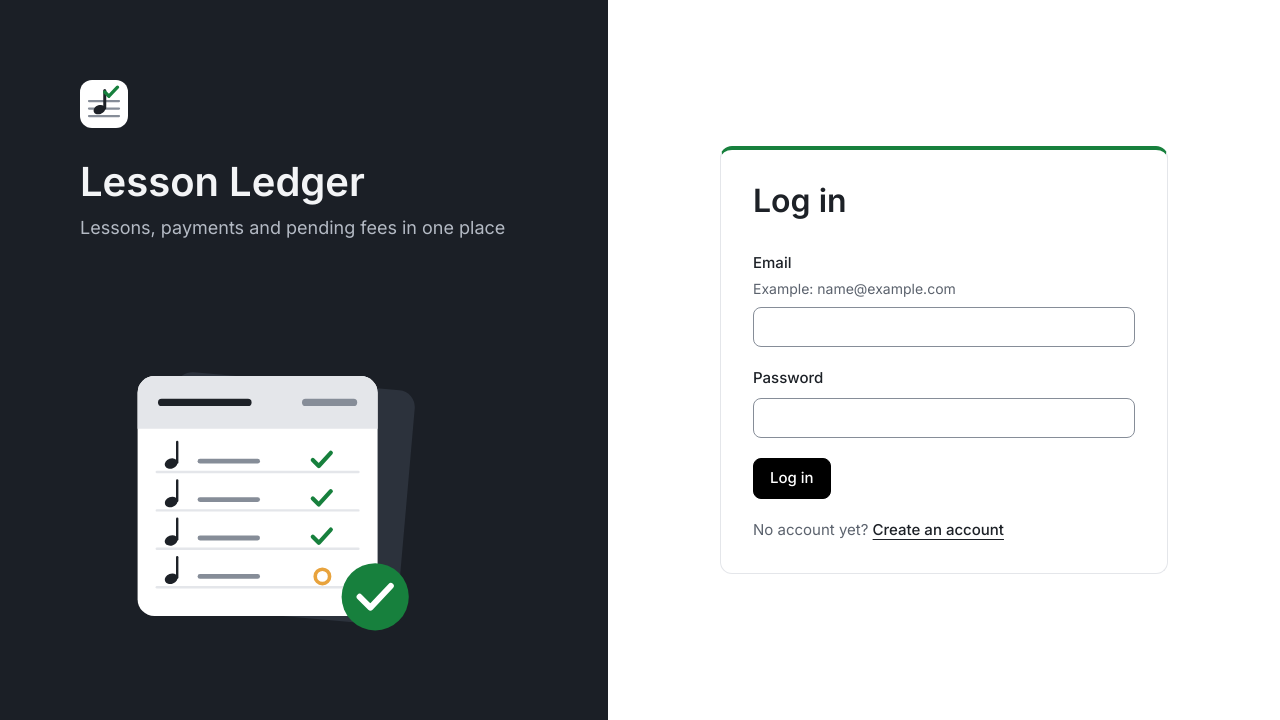
Test case: AC-2 login page › shows a generic alert on a network error and keeps the email
The width and height of the screenshot is (1280, 720).
Expected: the heading "Log in" is shown, [753, 181, 847, 220]
Type "alice@example.com" into the field labelled "Email" at [944, 327], box [753, 307, 1135, 347]
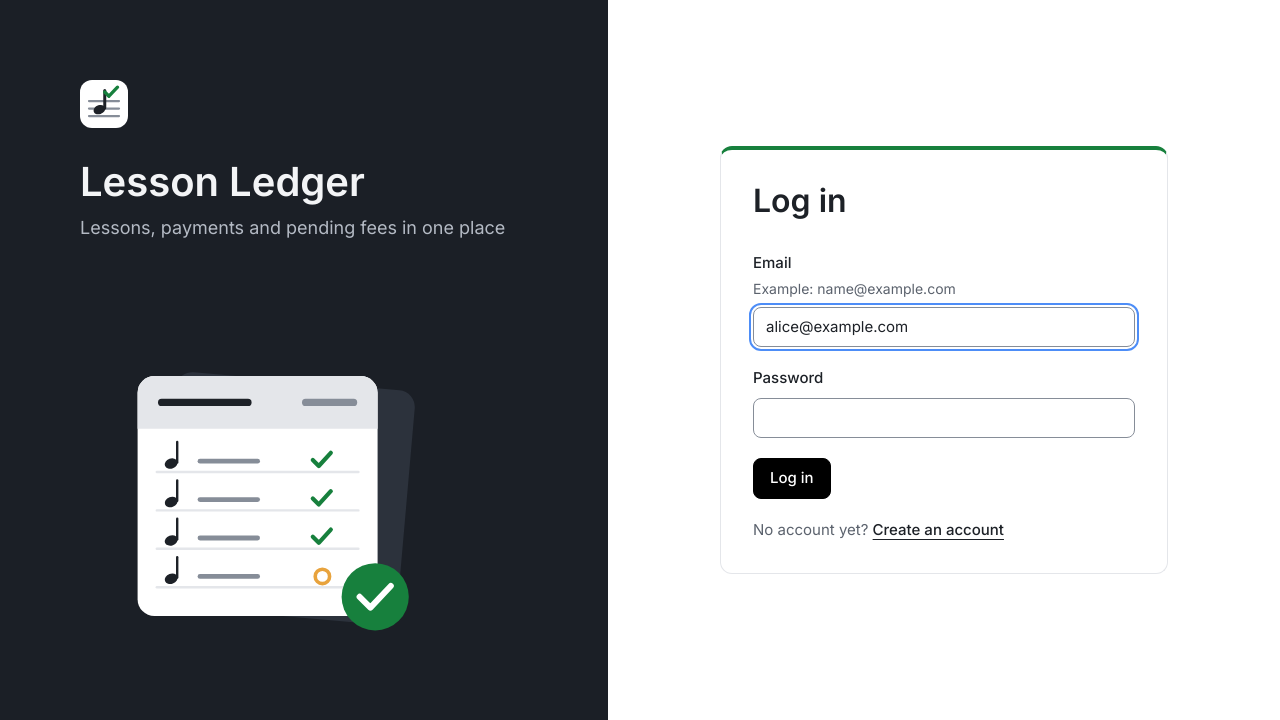
Type "alice-ledger-pass" into the password field labelled "Password" at [944, 418], box [753, 398, 1135, 438]
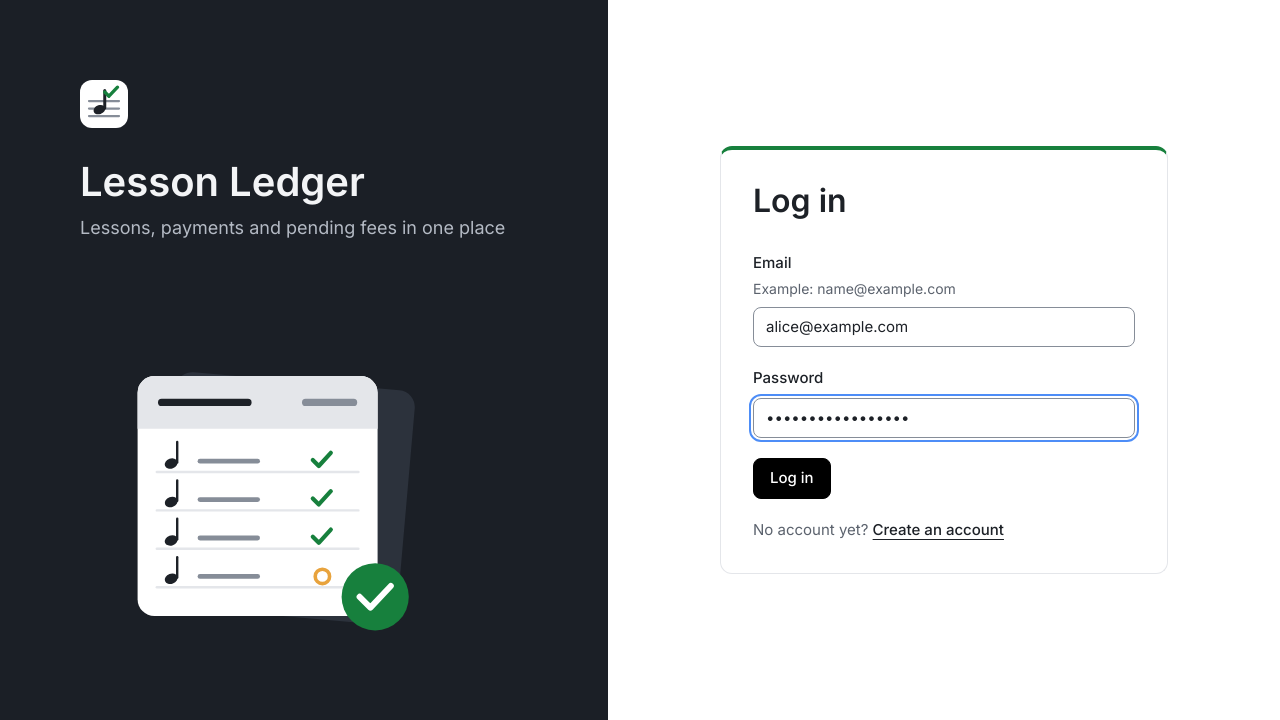
Click the button "Log in" at [792, 479], box [753, 458, 831, 499]
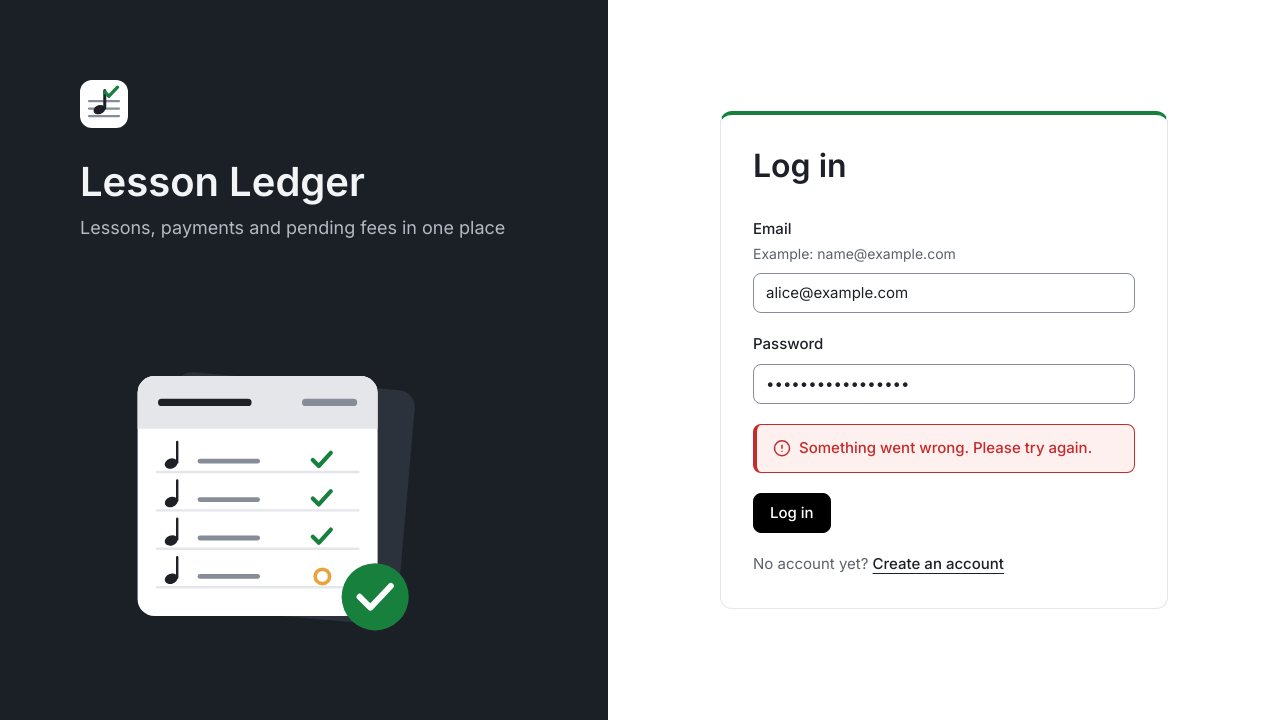
Expected: the message reads "Something went wrong. Please try again.", [799, 438, 1092, 457]
